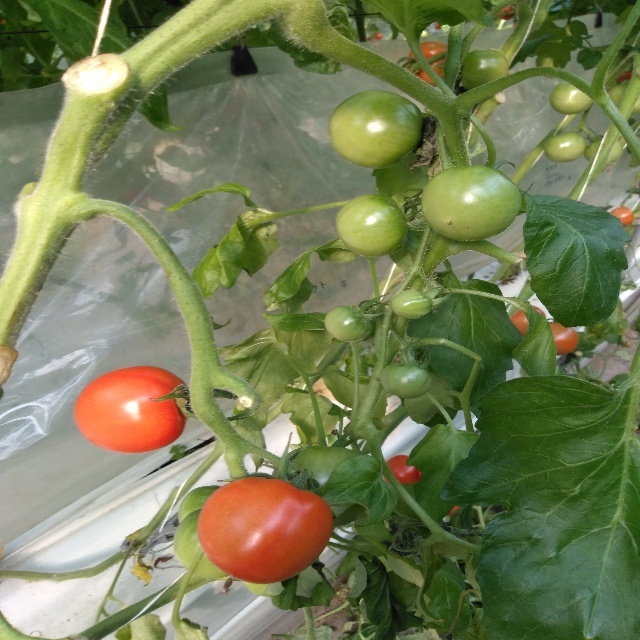l_fully_ripened: (197, 477, 334, 584), (73, 365, 188, 453), (406, 41, 449, 87)
l_green: (270, 445, 383, 527), (421, 165, 523, 241), (327, 91, 425, 169), (336, 194, 410, 256), (174, 509, 231, 580), (460, 48, 508, 92), (380, 362, 431, 398), (325, 306, 373, 343), (178, 486, 220, 524), (548, 82, 595, 115), (543, 133, 587, 163), (390, 290, 433, 319), (584, 137, 623, 167)
